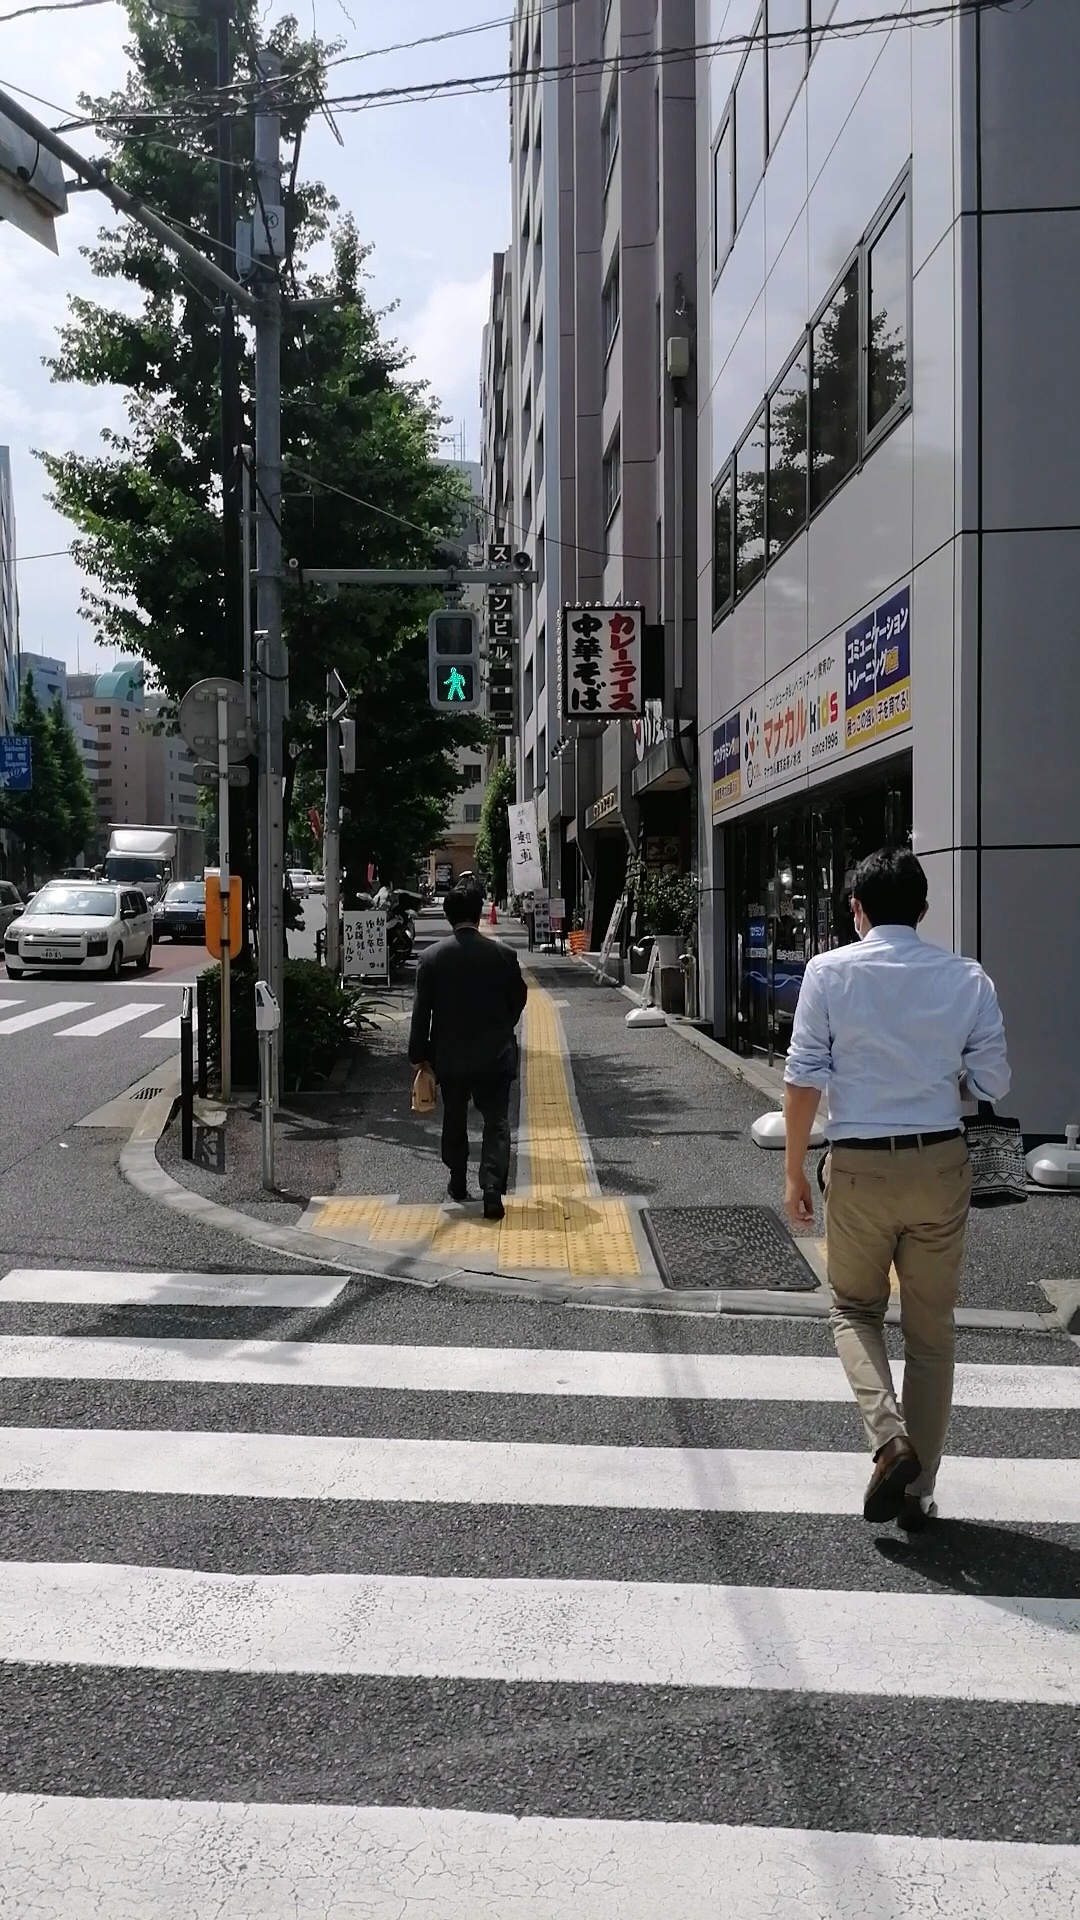green: (429, 609, 479, 712)
